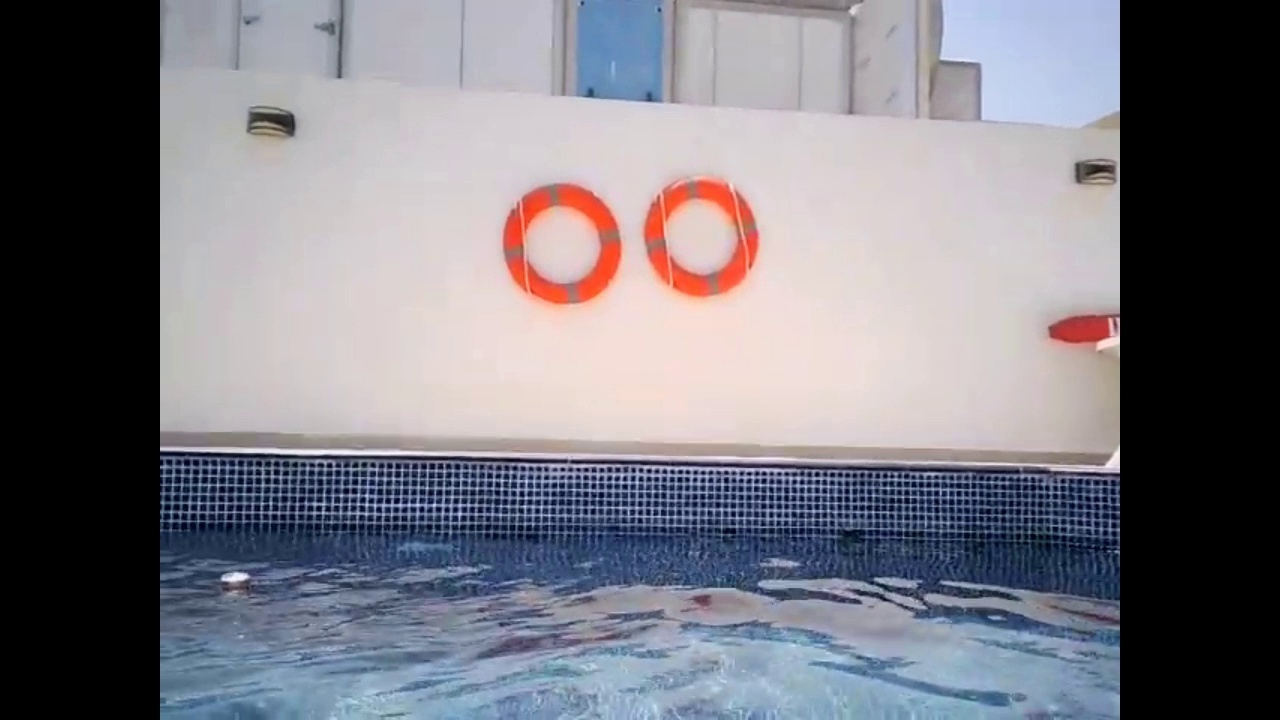debris: (215, 564, 257, 609)
